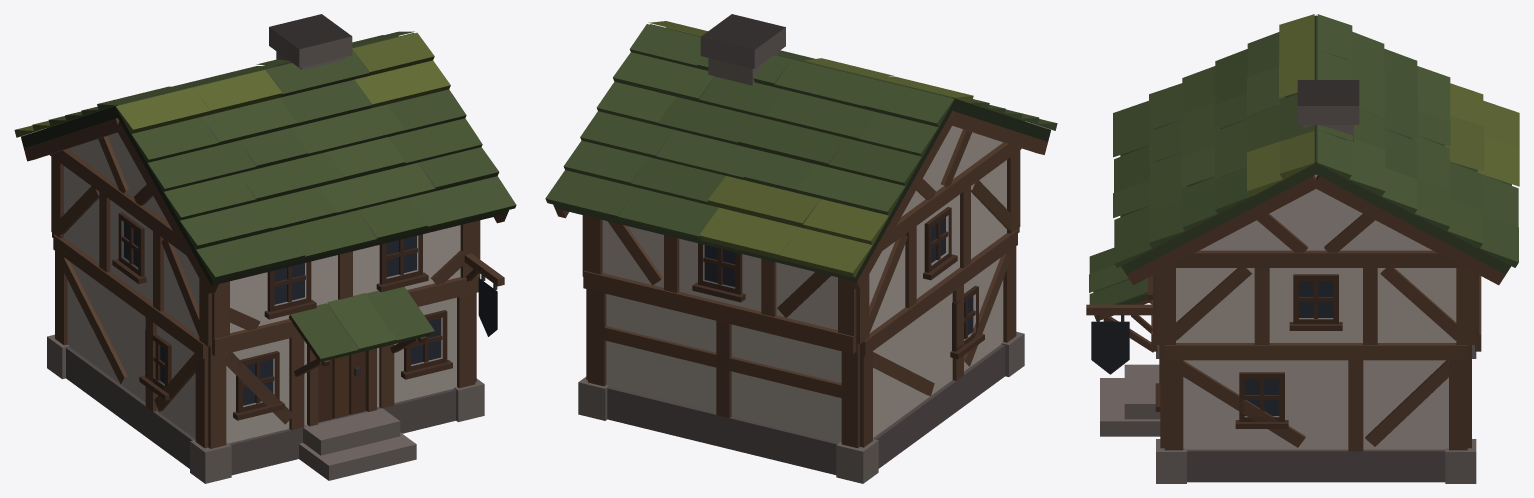
File: tavern.glb
3 views of the same model, side by side, from view 1: azimuth 30°, elevation 25°; view 2: azimuth 150°, elevation 25°; view 3: azimuth 270°, elevation 25° (orthographic).
Parts seen in each view (by area): view 1: lit, face, canvas; view 2: lit, canvas, face; view 3: lit, canvas, face.
Part boxes in pixels (<box>): lit: <box>14,14,516,483</box>; face: <box>50,136,480,448</box>; canvas: <box>64,132,460,443</box>; lit: <box>545,14,1057,483</box>; canvas: <box>602,126,1006,442</box>; face: <box>582,129,1021,448</box>; lit: <box>1086,14,1519,483</box>; canvas: <box>1176,174,1456,449</box>; face: <box>1151,213,1481,451</box>.
Bounding box in the file's own units: 5.7 × 6.2 × 7.01.
